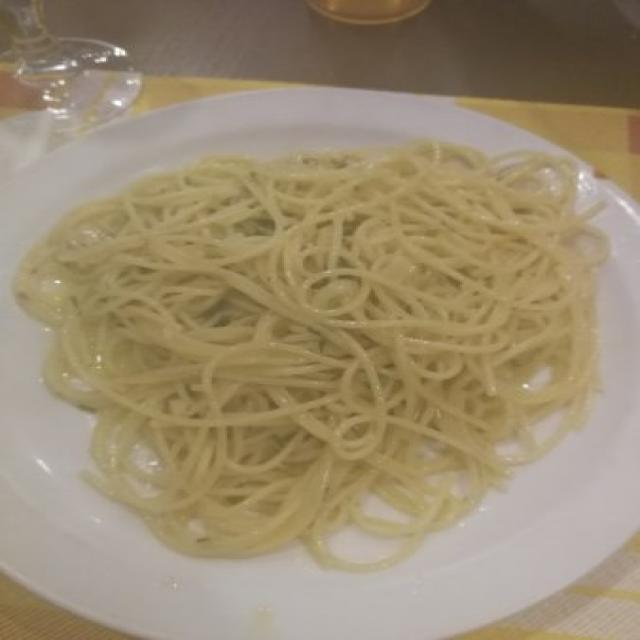Oil pasta: (42, 125, 602, 573)
